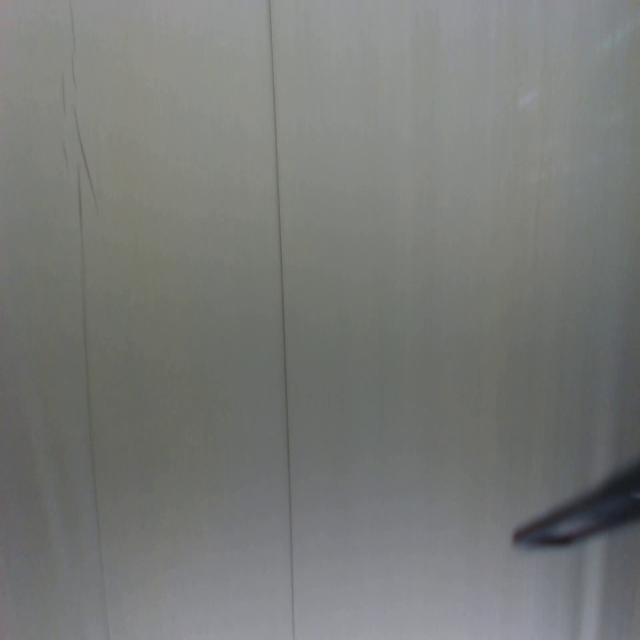crease: (65, 1, 114, 640), (268, 0, 296, 640)
